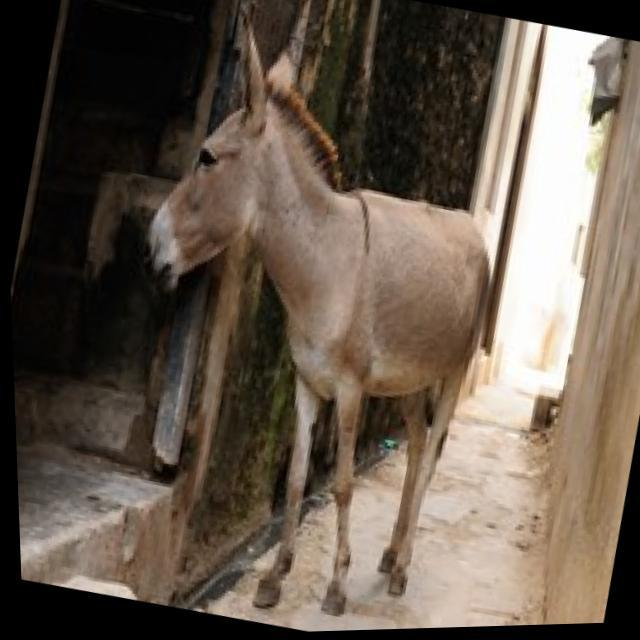Donkey: (58, 29, 554, 638)
